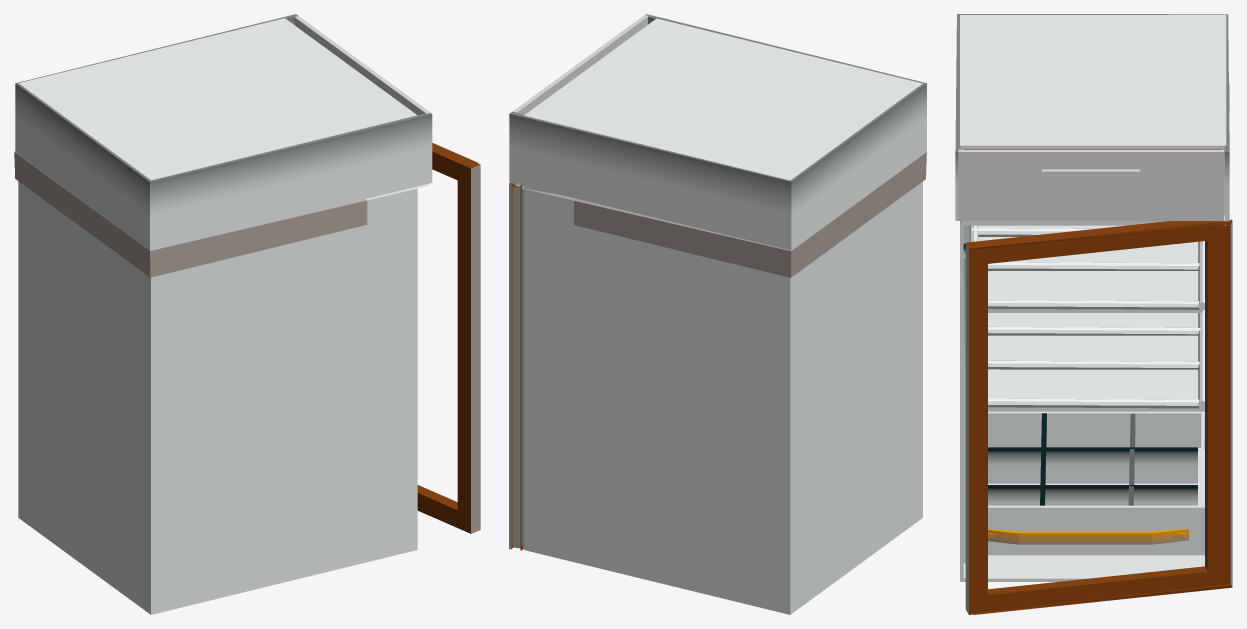
The model's file is NeveraMedicamnetos.fbx.
The picture shows the model from 3 angles, left to right: view 1: azimuth 30°, elevation 25°; view 2: azimuth 150°, elevation 25°; view 3: azimuth 270°, elevation 25°; orthographic projection.
Visible parts, largest first — view 1: Cubo.009_Cubo.022, Cubo.009_Cubo.001; view 2: Cubo.009_Cubo.022, Cubo.009_Cubo.001; view 3: Cubo.009_Cubo.022, Cubo.009_Cubo.001.
Boxes of the visible parts, <box> form: Cubo.009_Cubo.022: <box>14,14,432,614</box>; Cubo.009_Cubo.001: <box>417,143,480,533</box>; Cubo.009_Cubo.022: <box>509,14,926,614</box>; Cubo.009_Cubo.001: <box>509,183,523,550</box>; Cubo.009_Cubo.022: <box>955,14,1229,581</box>; Cubo.009_Cubo.001: <box>965,219,1232,614</box>.
Size of the model in its own units: 76.17 by 94 by 54.08.
2 materials, 1 textured.
